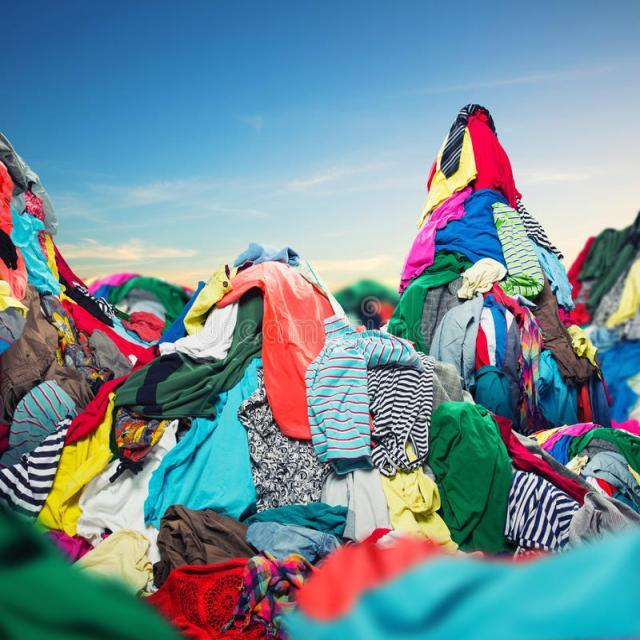clothes: (8, 265, 604, 595)
